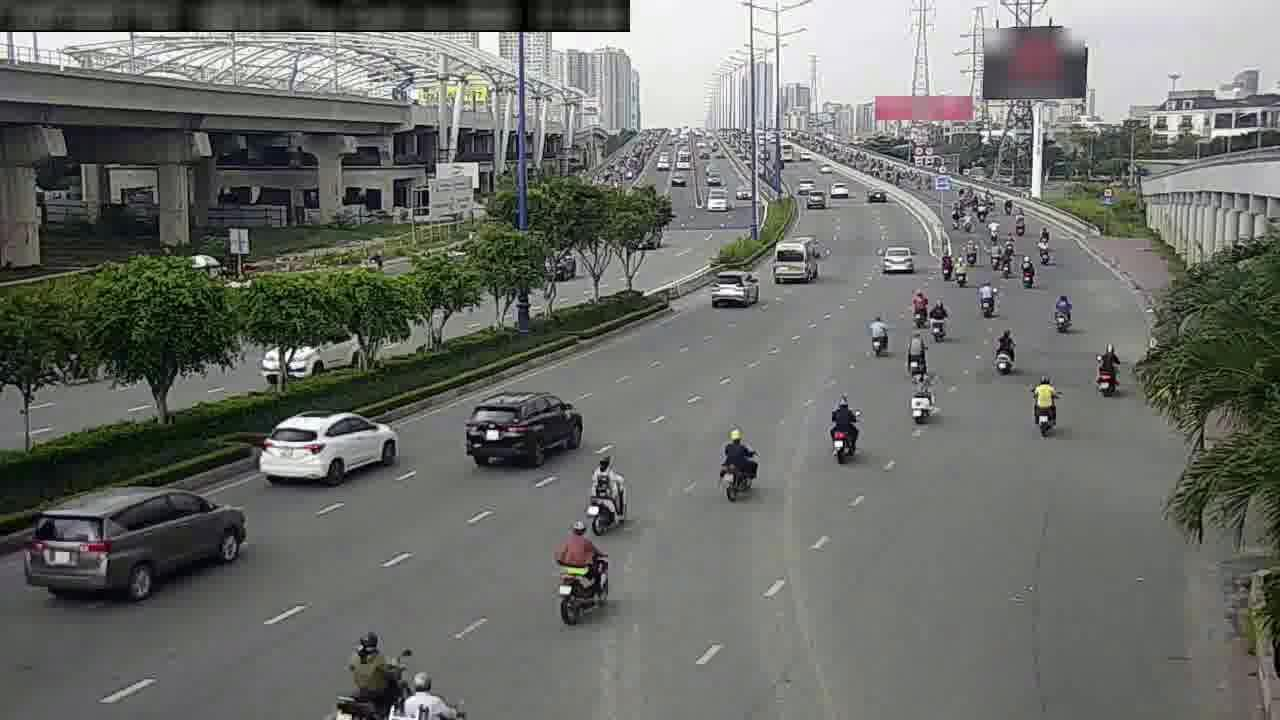car: (41, 482, 247, 602), (267, 401, 400, 484), (463, 383, 586, 466), (705, 265, 759, 310), (875, 238, 918, 276)
motorbike: (337, 622, 433, 709), (547, 516, 616, 616), (578, 450, 634, 535), (711, 422, 762, 502), (820, 397, 863, 465), (1024, 370, 1062, 434), (902, 366, 939, 425), (1086, 339, 1123, 397), (987, 325, 1019, 377), (862, 309, 893, 358), (899, 331, 929, 377), (923, 295, 951, 340), (1047, 290, 1075, 334), (972, 276, 999, 318), (904, 285, 929, 325), (934, 248, 958, 280), (1016, 255, 1038, 289), (950, 257, 972, 290), (993, 247, 1014, 279), (1036, 236, 1055, 267), (962, 236, 981, 266)
passenger_car: (770, 242, 818, 284)
